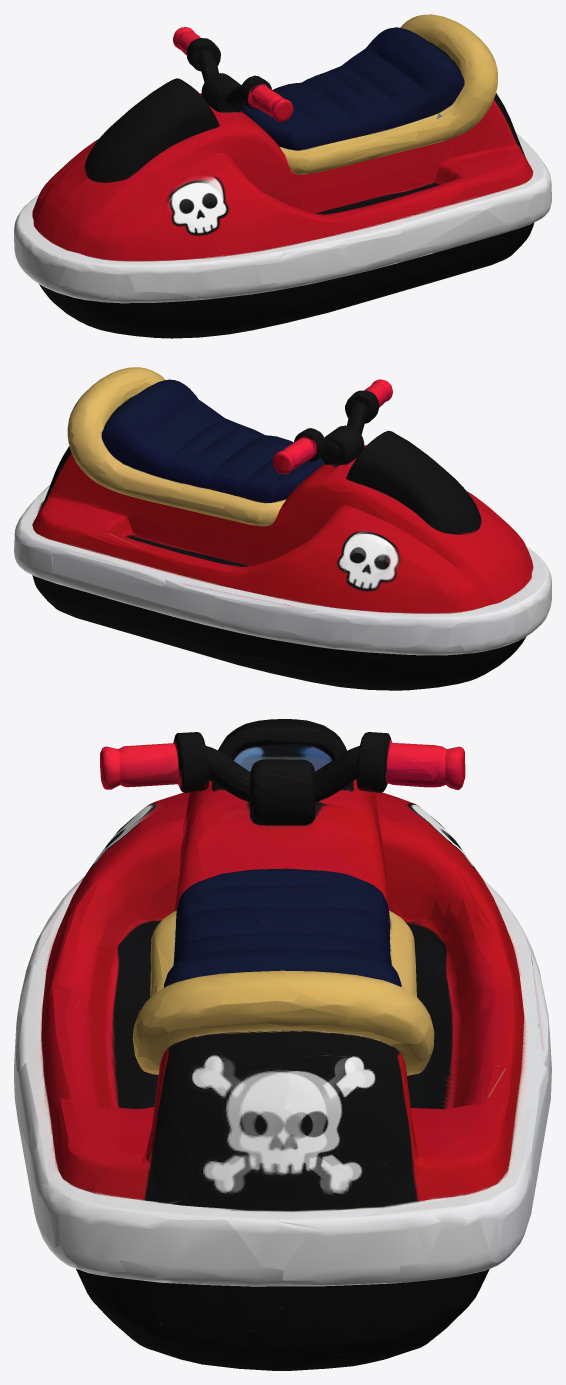
Rendered from Jetski_Red_Skull.glb.
3 renders of one model, top to bottom at view 1: azimuth 30°, elevation 25°; view 2: azimuth 150°, elevation 25°; view 3: azimuth 270°, elevation 25°, orthographic. The views are drawn at different scales.
Size of the model in its own units: 1.9 by 0.9453 by 1.03.
Materials: 1 (1 with a texture image).
